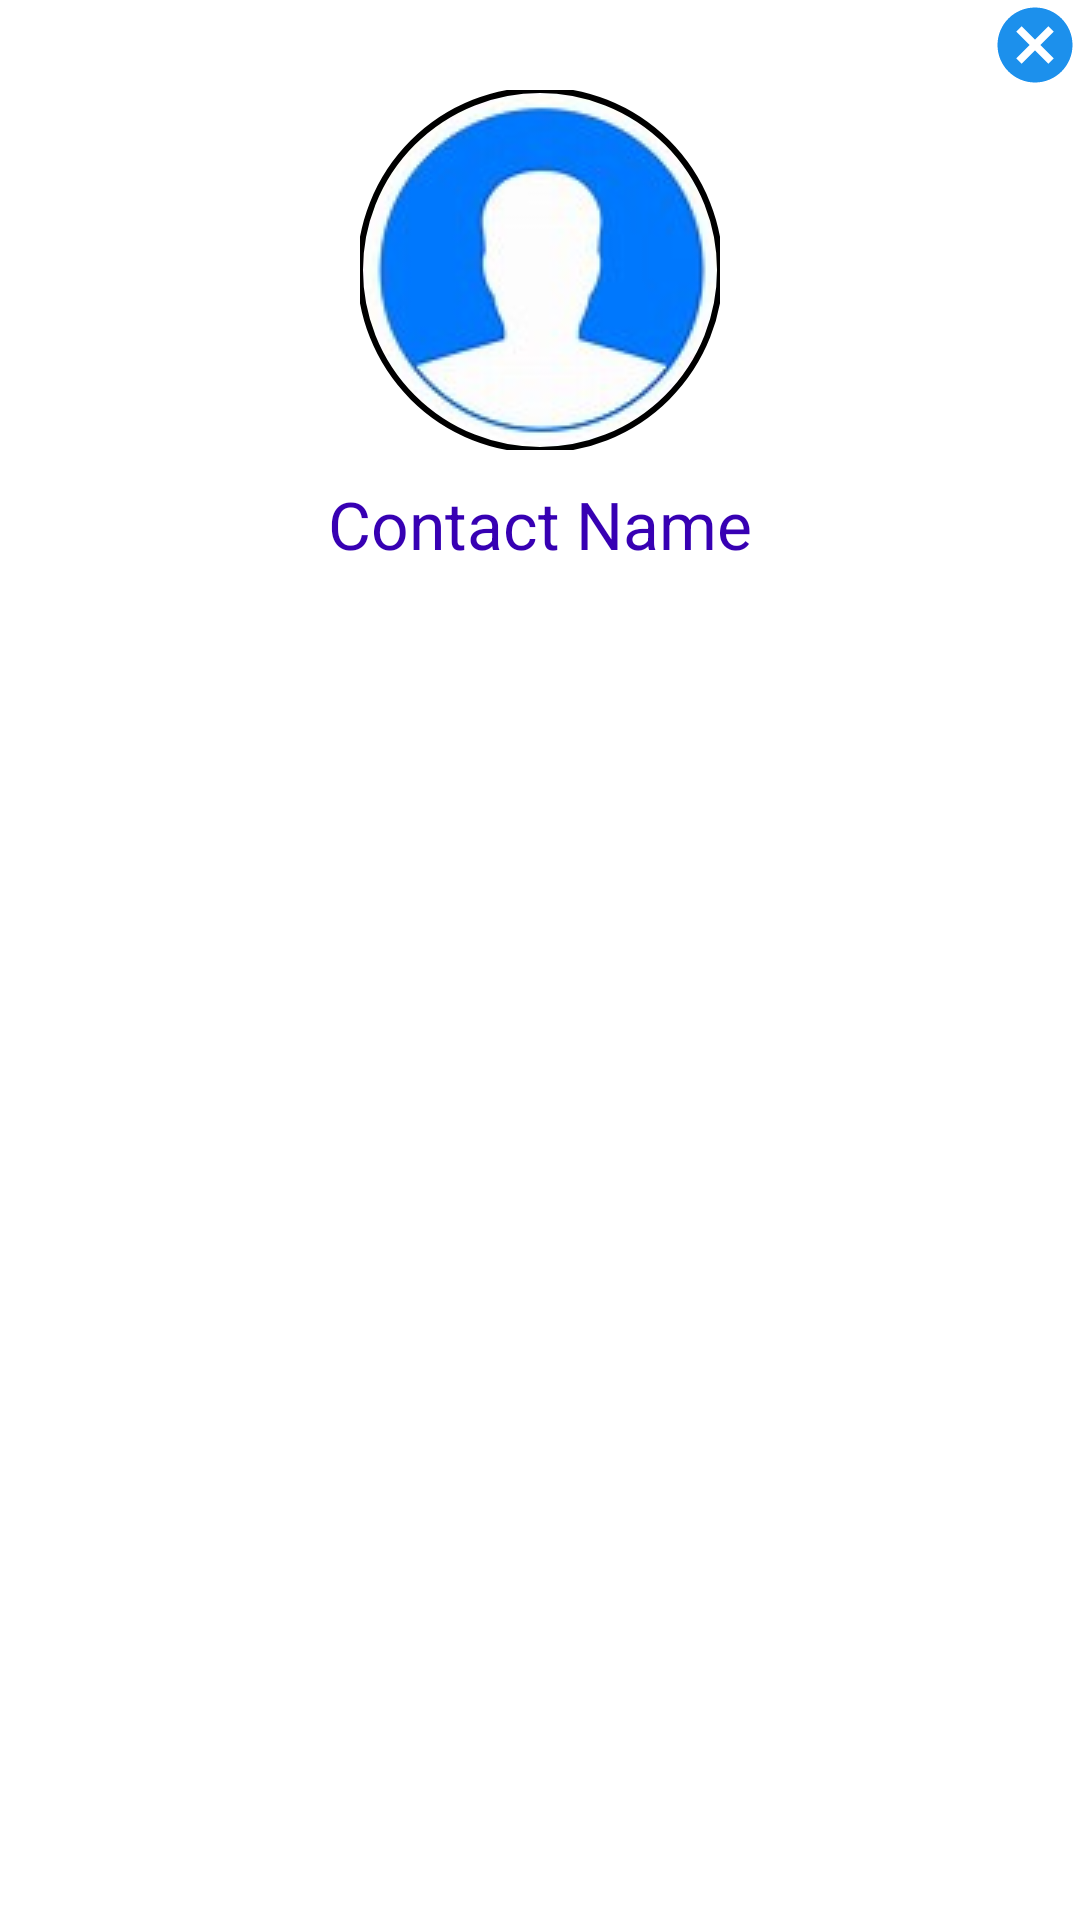

Named icons in this screenshot (1080px×1920px) and their centers, [x,y]:
cancel: [1035,45]
contactprofile: [540,270]
